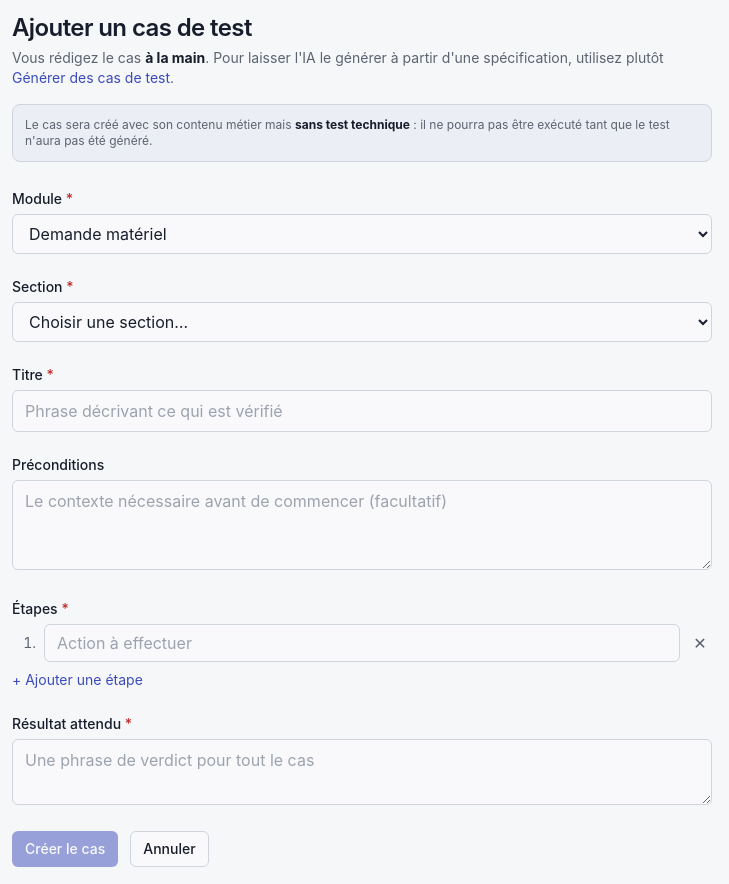
Test: AddManualCase — création manuelle sans IA › exige titre, étape, résultat ET section (bouton désactivé sinon)
The image size is (729, 884).
Expected: the button "Créer le cas" is disabled, [12,831,118,867]
Step 1. Type "Connexion valide" into the field labelled "Titre *" → (362, 411), box [12,390,712,432]
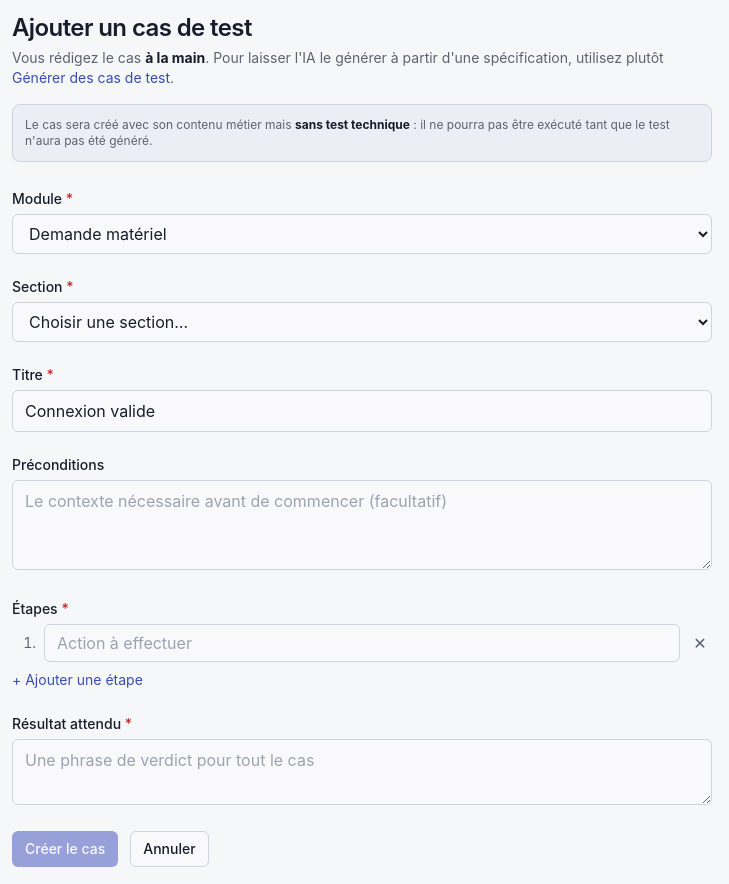
Step 2. Type "Ouvrir la page" into the field with placeholder "Action à effectuer" → (362, 643), box [44,624,680,662]
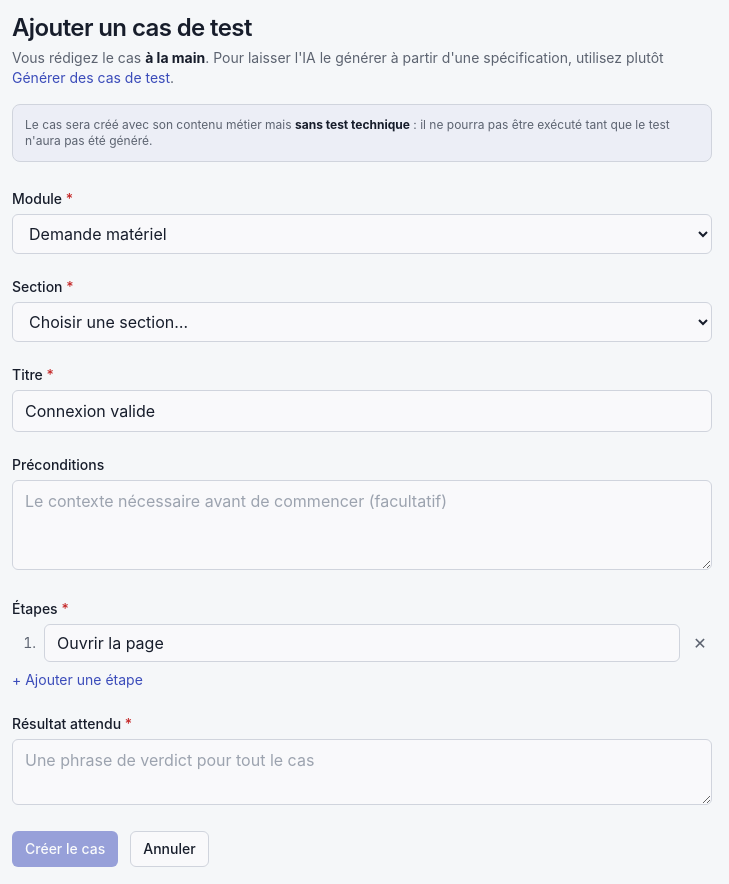
Step 3. Type "Accès au tableau de bord." into the text box labelled "Résultat attendu *" → (362, 772), box [12,739,712,805]
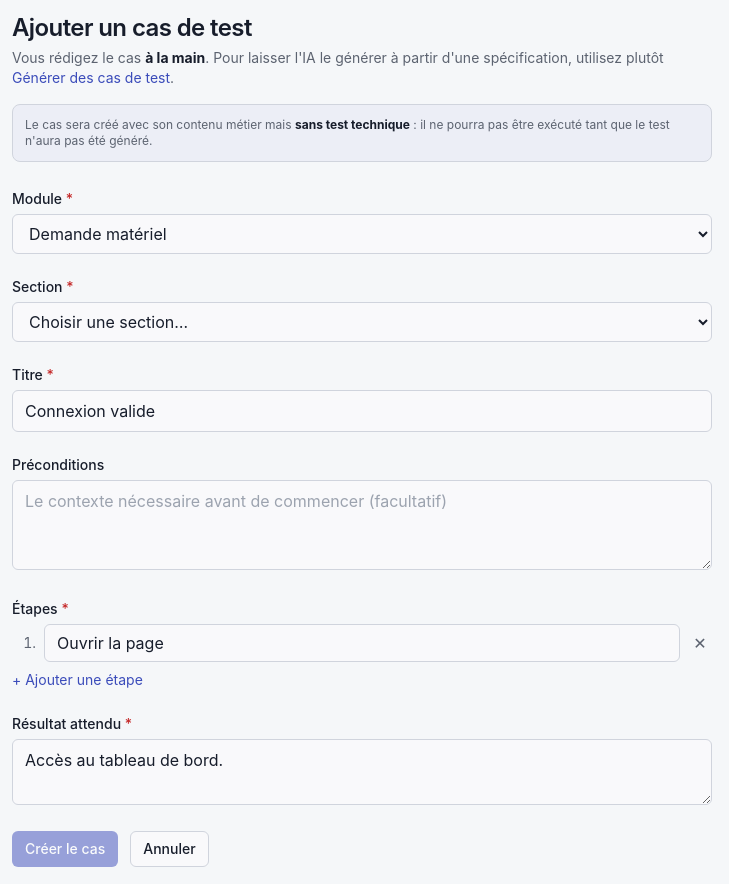
Expected: the button "Créer le cas" is disabled, [12,831,118,867]
Step 4. Select "Authentification" in the dropdown labelled "Section *" → (362, 322), box [12,302,712,342]
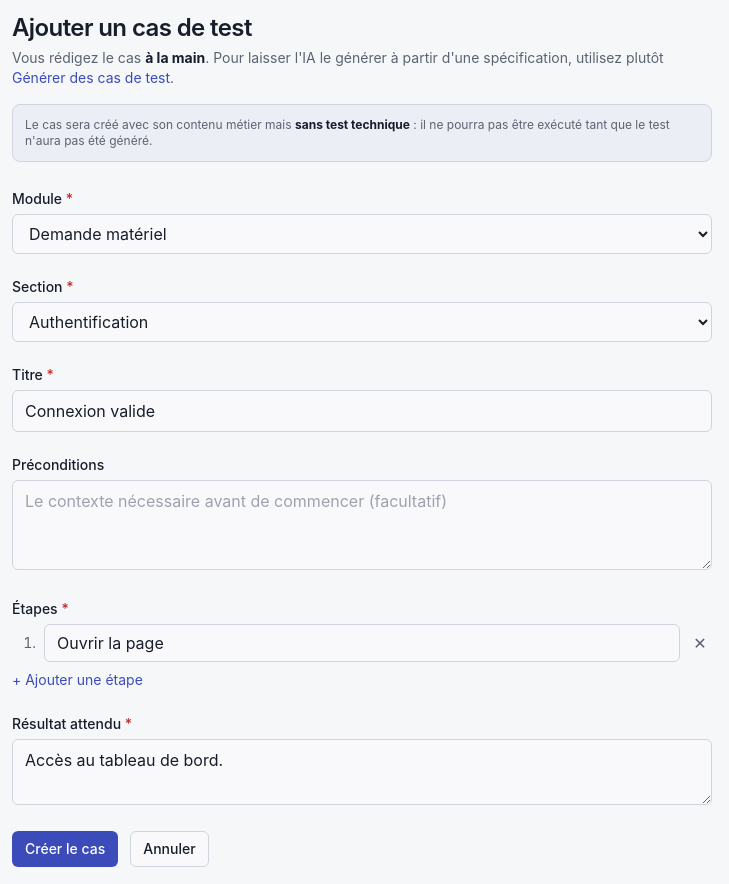
Now the button "Créer le cas" is enabled, box [12,831,118,867]
